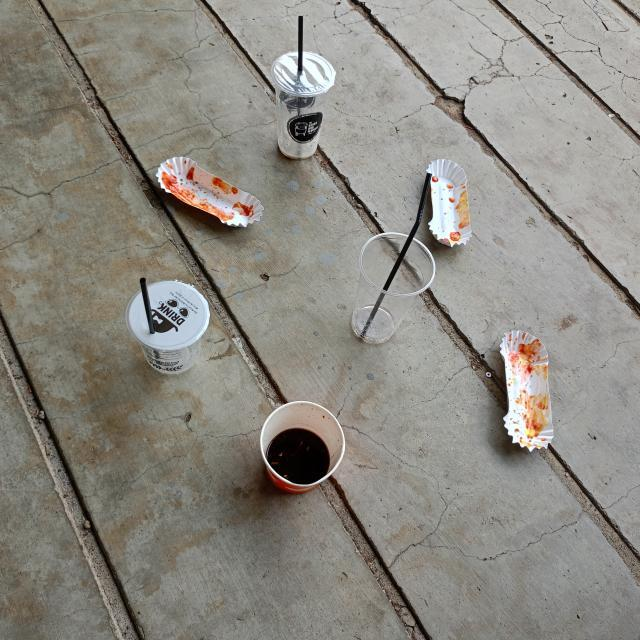recyclable waste: (476, 318, 576, 476), (334, 223, 450, 357), (143, 137, 270, 253), (242, 393, 354, 511), (116, 271, 222, 386), (260, 40, 343, 176), (403, 149, 496, 258)
